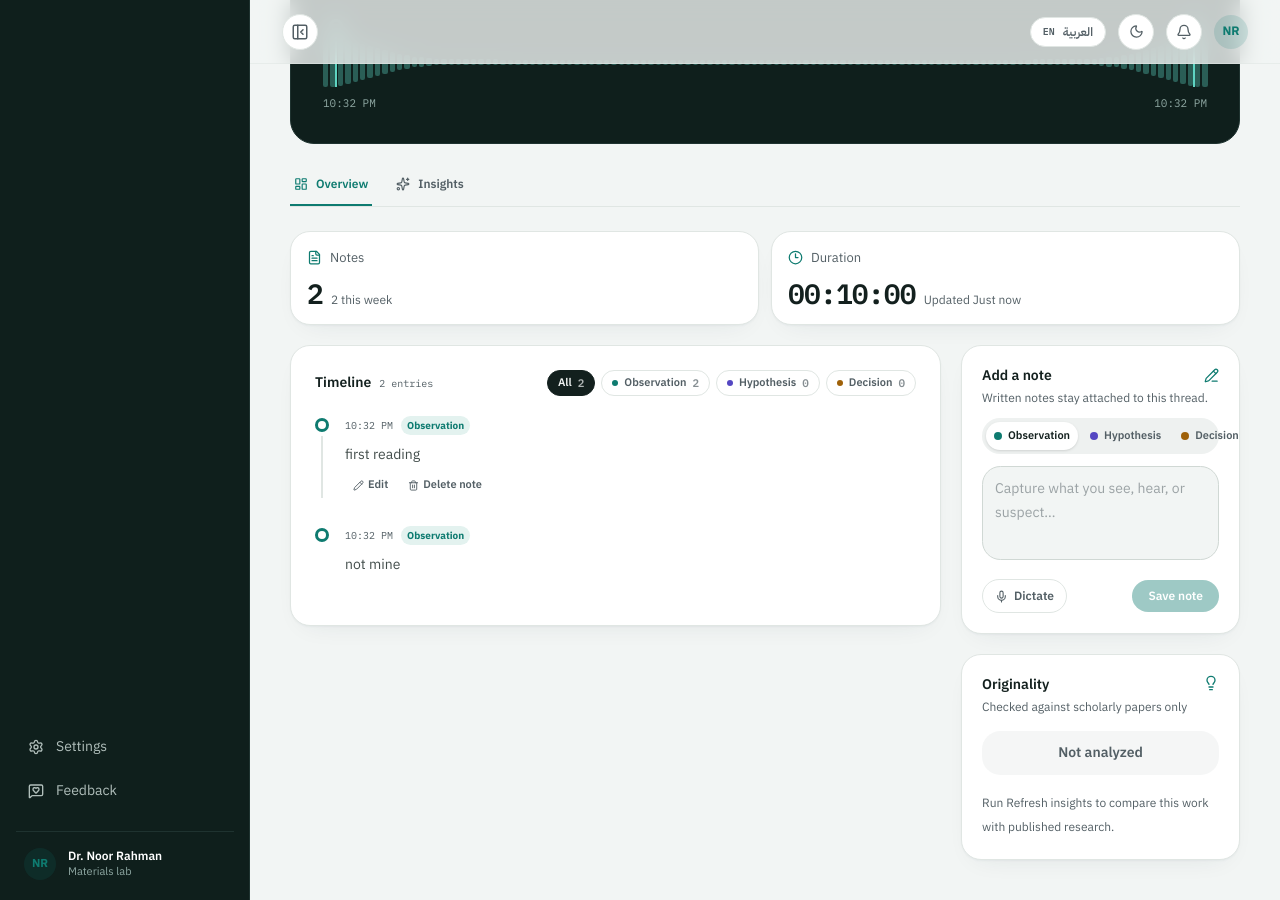
Scenario: editing an experiment › deletes a note after confirming
The image size is (1280, 900).
(page scrolled)
Click the button with test id "button-delete-note-7" at (445, 485), box [400,473,490,498]
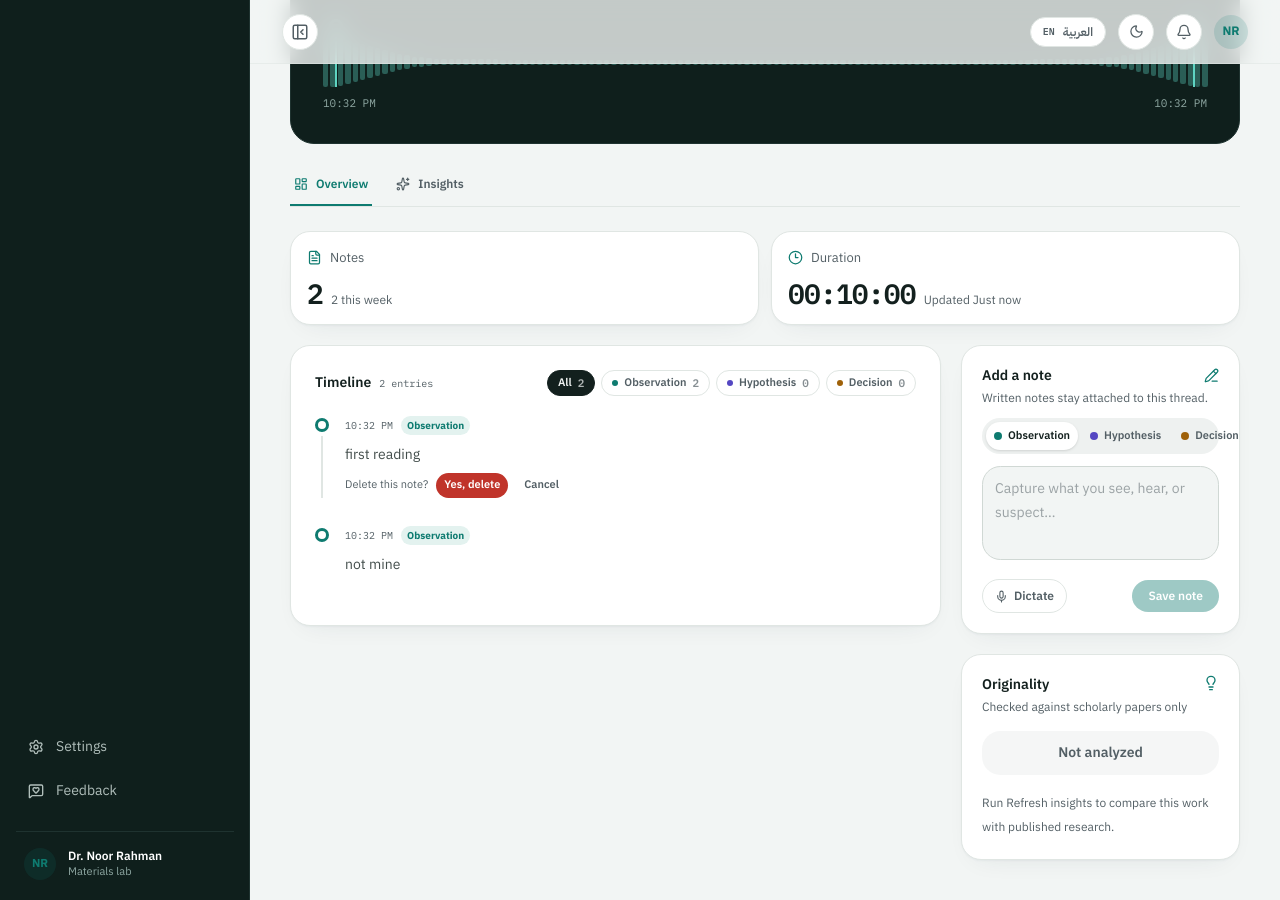
Click the button with test id "button-confirm-delete-note-7" at (472, 485), box [436,473,508,498]
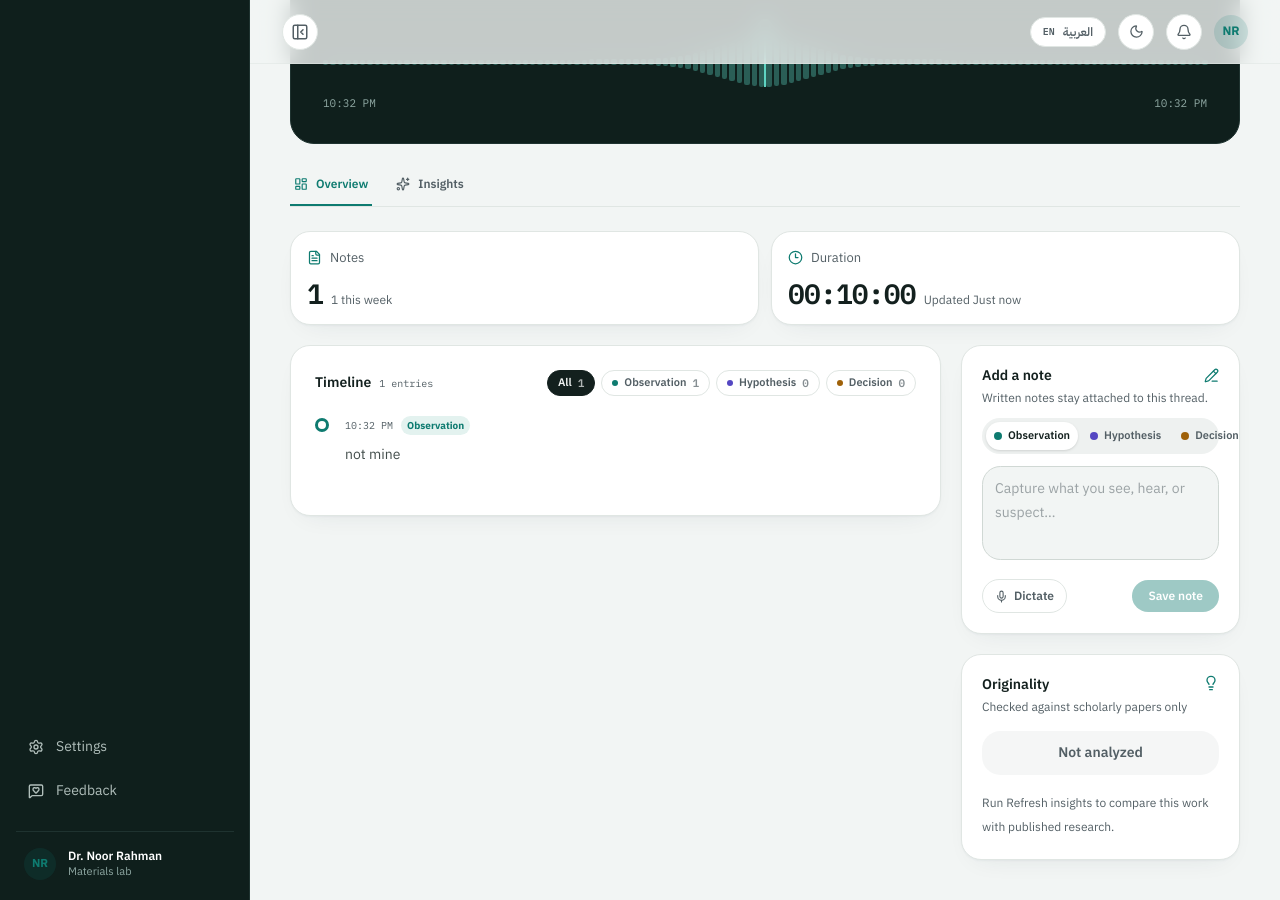
Expected: the element with test id "note-7" is gone
